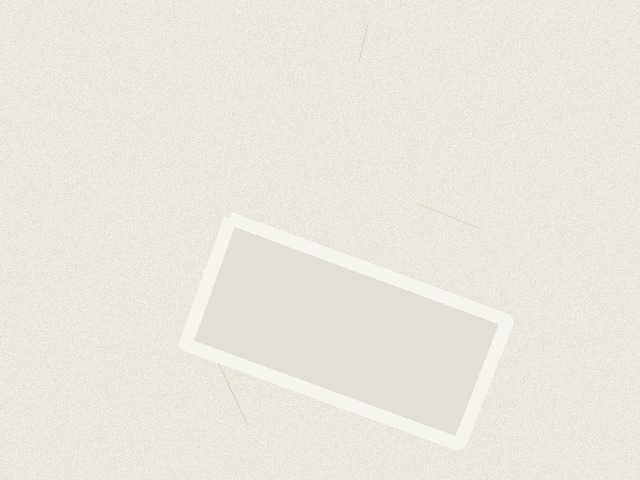parking_area: (185, 218, 507, 444)
